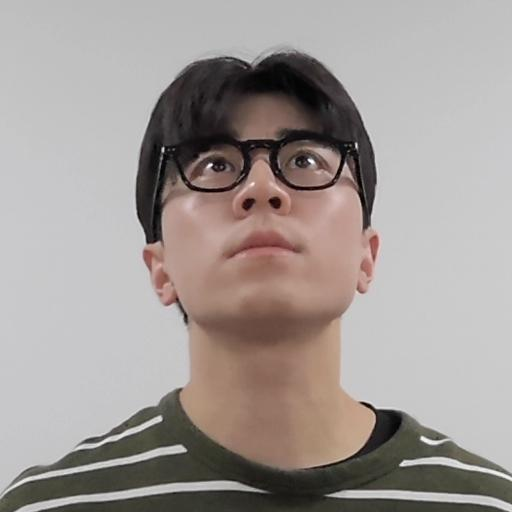glasses: (128, 52, 386, 329)
